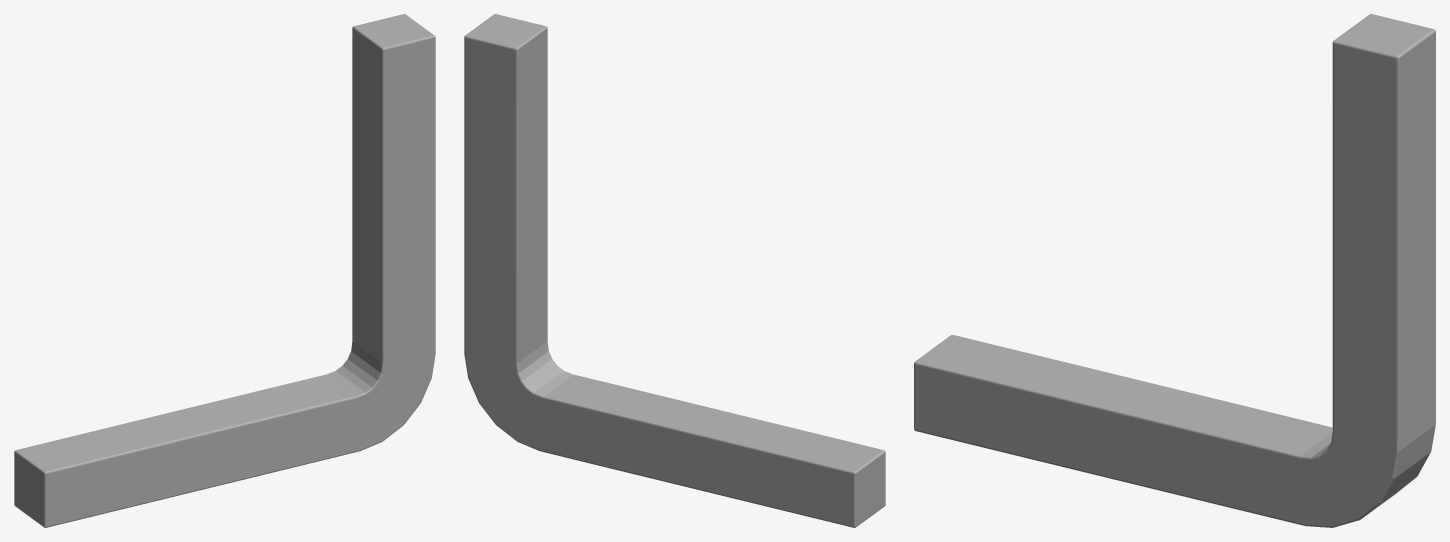
The model's file is AirVentShaft-L Big.fbx.
3 renders of one model, left to right at view 1: azimuth 30°, elevation 25°; view 2: azimuth 150°, elevation 25°; view 3: azimuth 330°, elevation 25°, orthographic. The views are drawn at different scales.
Parts seen in each view (by area): view 1: Cube.002; view 2: Cube.002; view 3: Cube.002.
Part boxes in pixels (x1=…): Cube.002: x1=14, y1=14, x2=435, y2=527; Cube.002: x1=464, y1=14, x2=885, y2=527; Cube.002: x1=914, y1=14, x2=1435, y2=527.
Size of the model in its own units: 966 by 937 by 132.
Materials: 1 (1 with a texture image).
